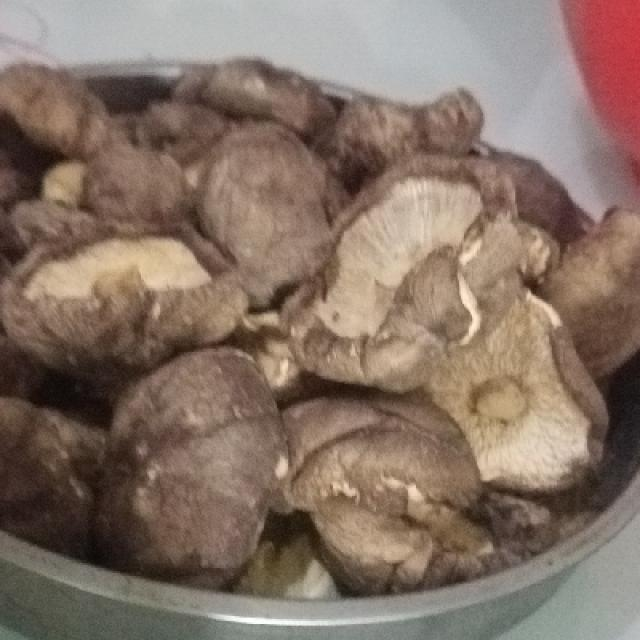Lentinus edodes: (0, 59, 640, 600)
